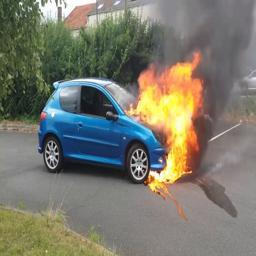fire: (128, 50, 204, 185)
